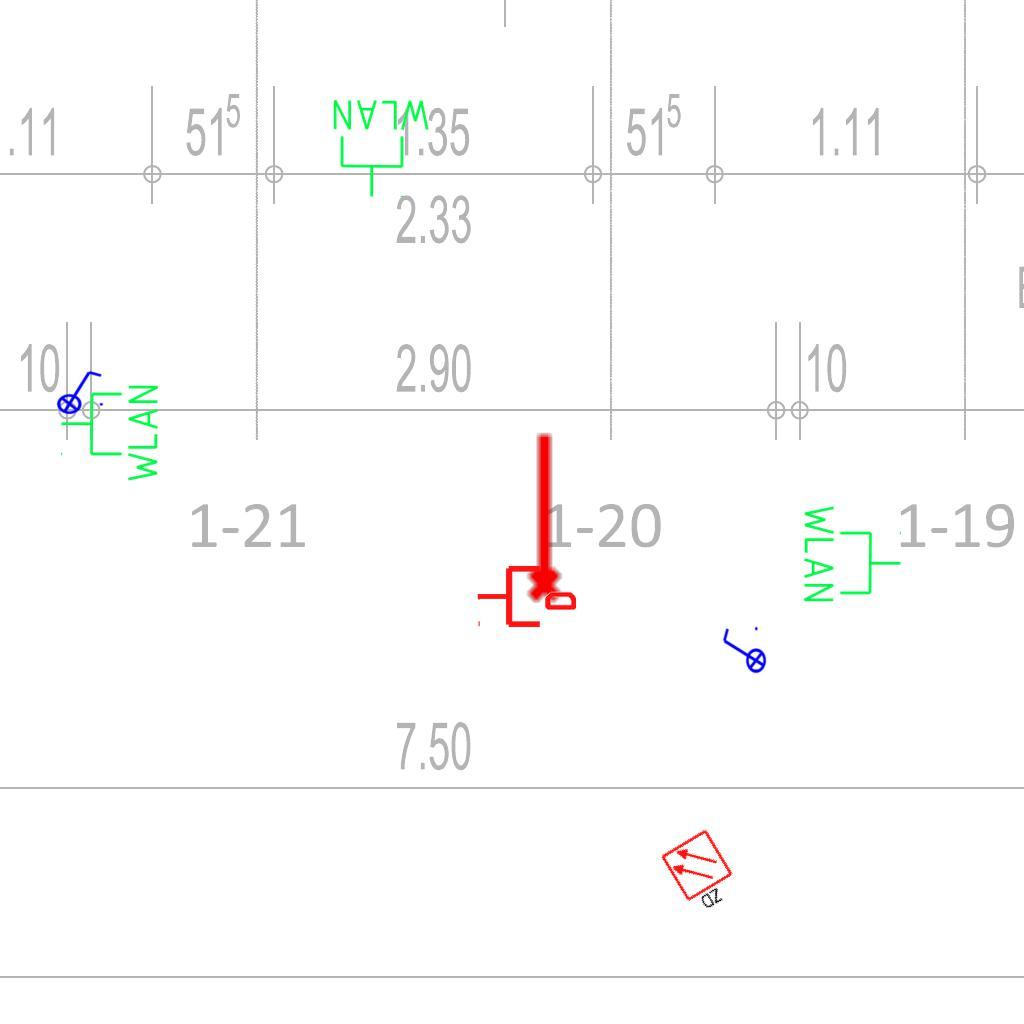ASR_Ansaugoeffnung: (519, 429, 565, 605)
Ausschalter_beleuchtet: (719, 624, 767, 680), (50, 367, 106, 415)
Datenanschluss_einfach: (476, 562, 576, 631)
WLAN: (329, 96, 434, 200), (800, 501, 904, 606), (58, 381, 162, 486)
ZD_Melder_in_Zwischendecke_mit_Revisionsoeffnung_mind_40_x_40_cm: (659, 826, 746, 920)
